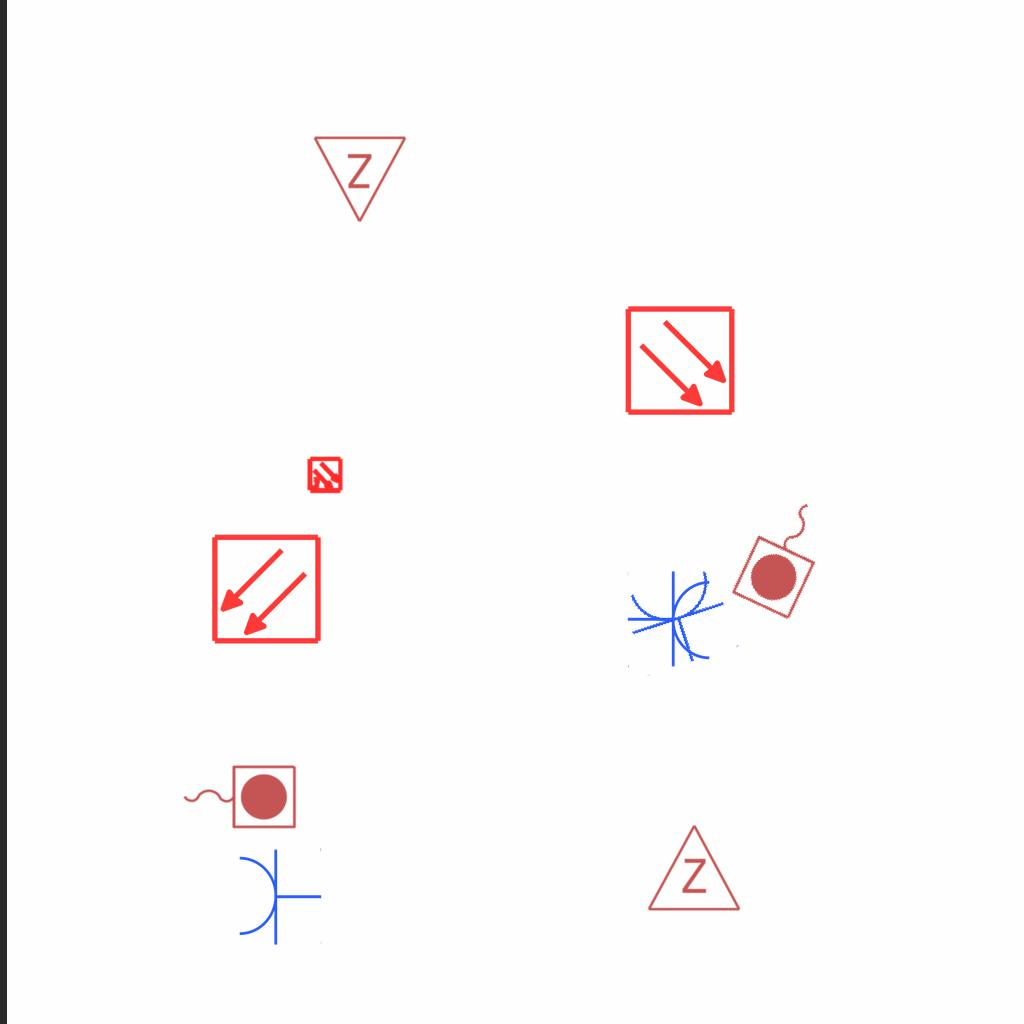OT_Multisensormelder_(Kombination_RMO_WMD): (297, 448, 353, 504)
RMO_Rauchmelder_optischer: (210, 533, 323, 646), (624, 304, 737, 417)
Schukosteckdose_einfach: (619, 563, 741, 678), (235, 846, 322, 946), (627, 570, 714, 670)
Zimmersignalleuchte: (644, 818, 742, 918), (312, 129, 410, 229)
Zugtaster: (726, 484, 844, 626), (178, 760, 300, 832)
